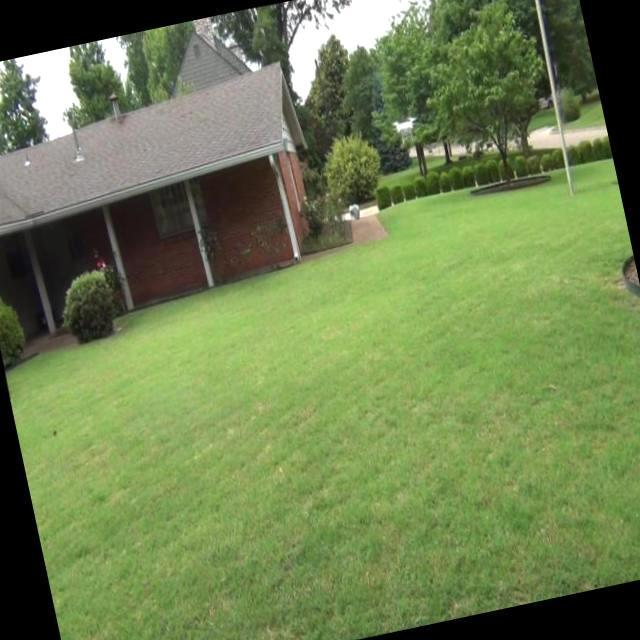drone: (384, 108, 422, 148)
